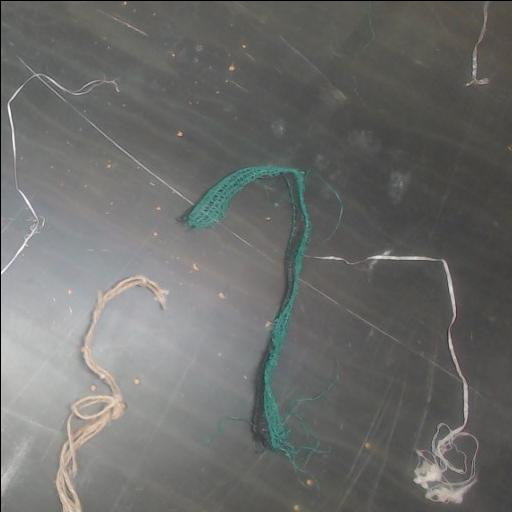conveyor belt: (1, 1, 512, 512)
jute: (55, 275, 164, 512)
thread: (313, 251, 478, 502), (183, 166, 309, 461), (1, 71, 43, 274), (466, 1, 489, 85)
